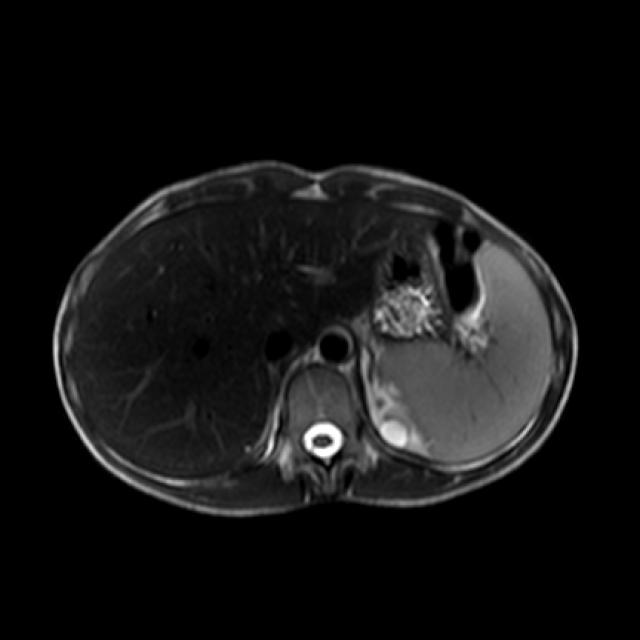sol: (376, 390, 421, 453)
